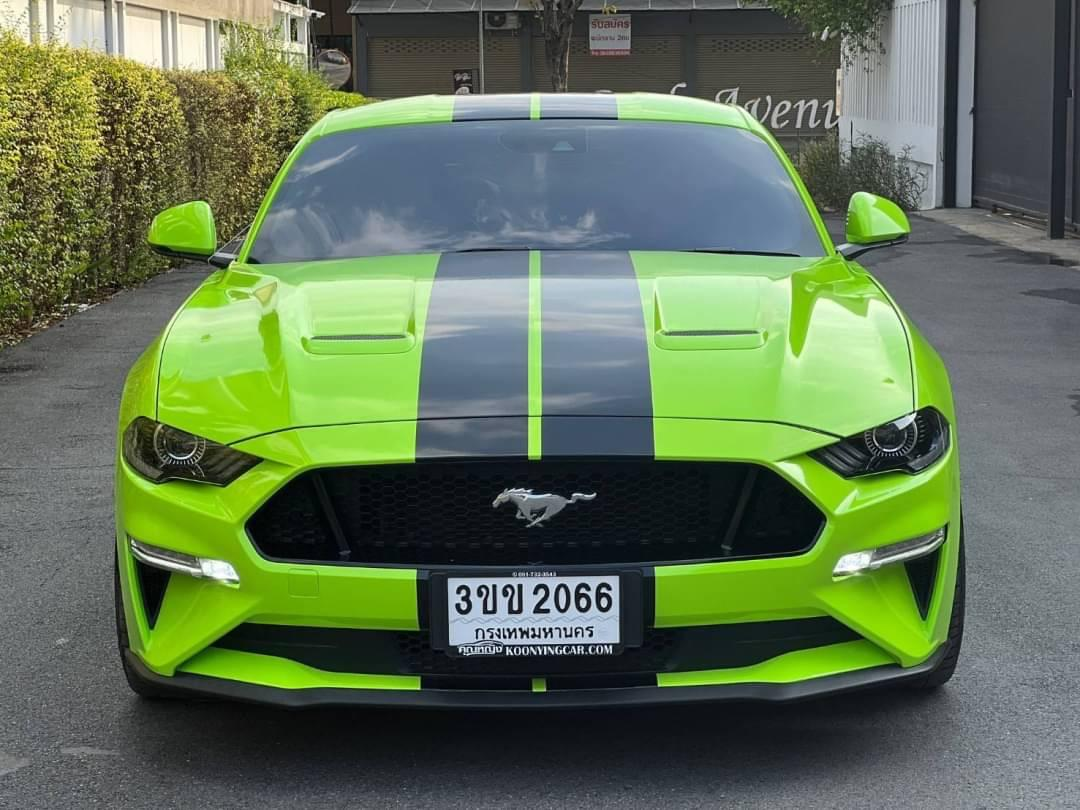license-plate: (443, 571, 628, 661)
